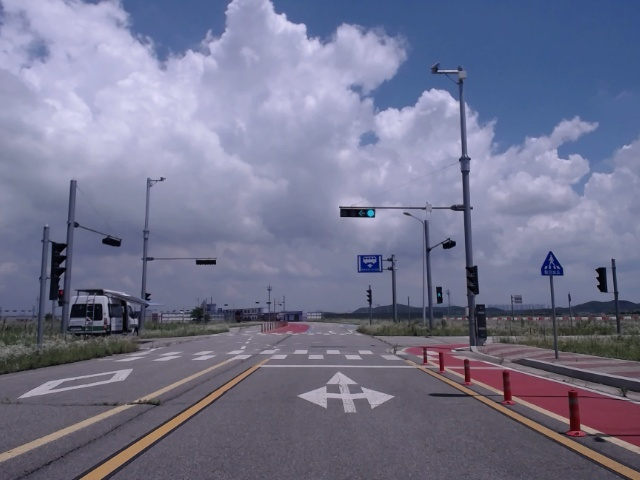all_green_4: (338, 206, 374, 217)
